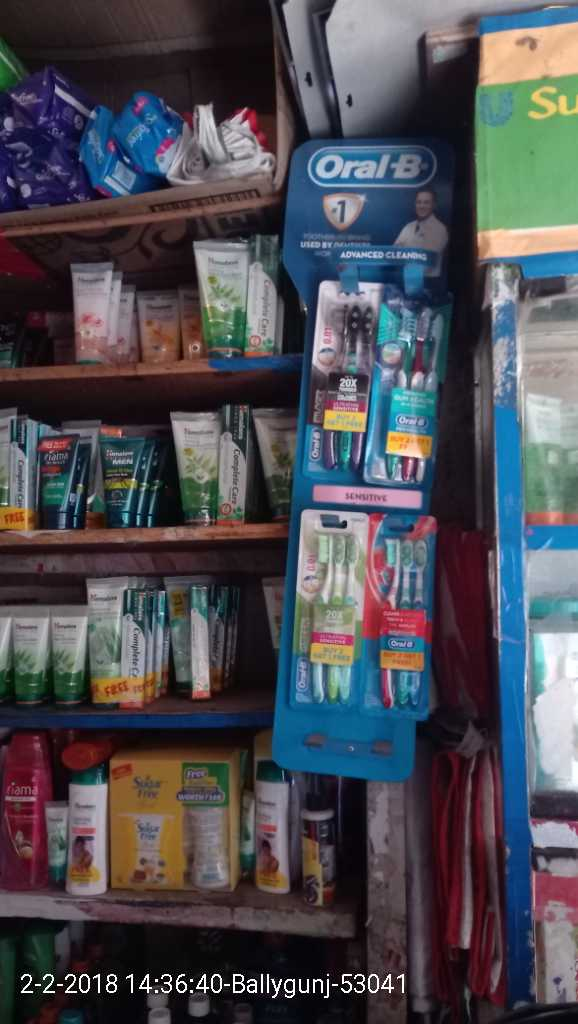oralb: (307, 295, 377, 479), (373, 304, 439, 483), (299, 527, 357, 704), (379, 536, 430, 705)
